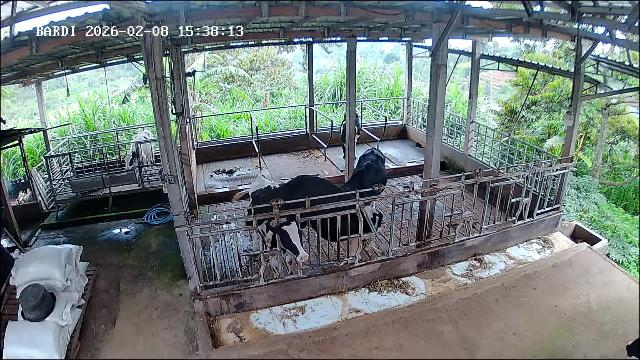mounting: (247, 174, 372, 264)
